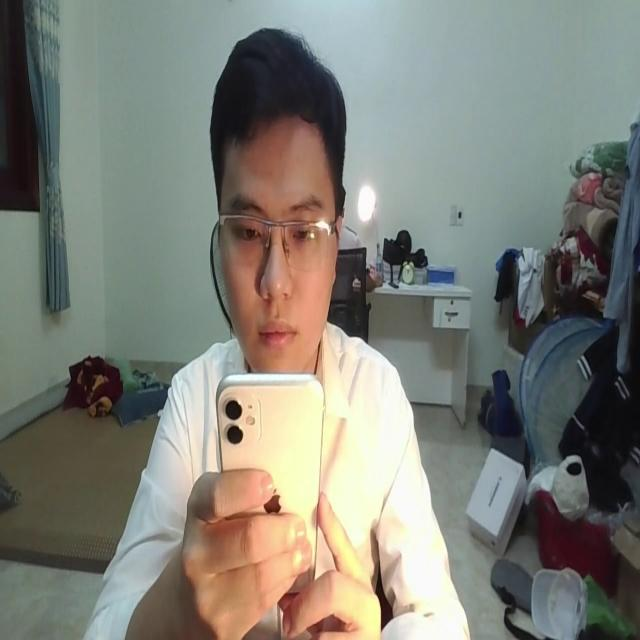phone: (216, 368, 325, 574)
student: (82, 37, 470, 640)
